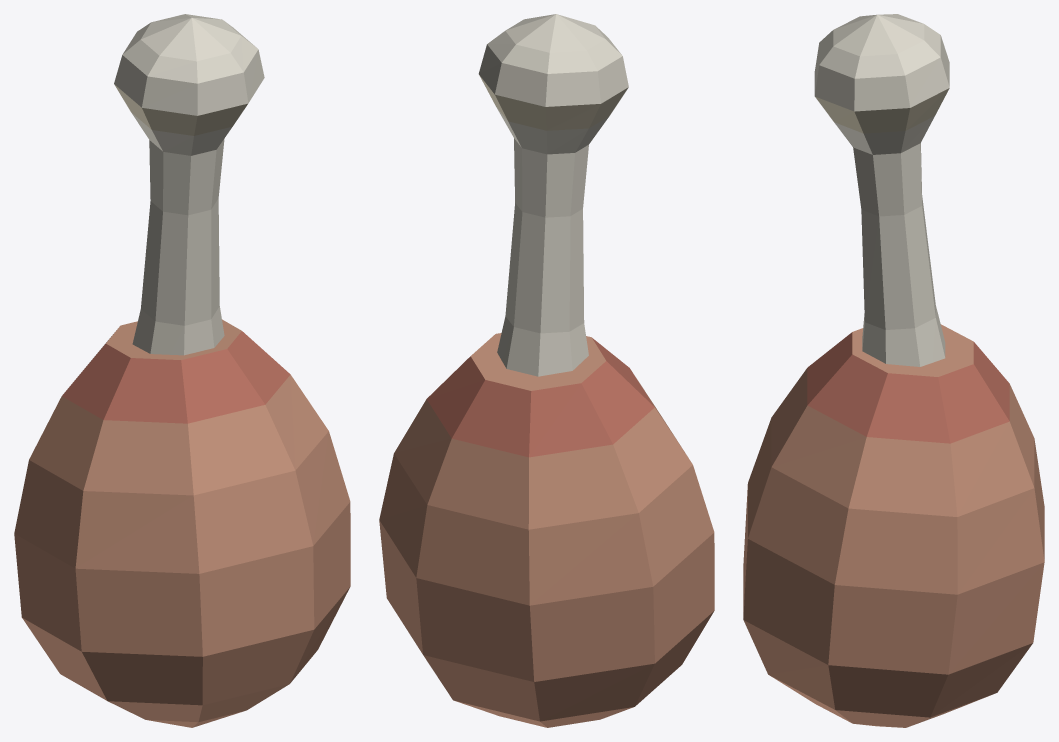
File: poultry.gltf
3 views of the same model, side by side, from view 1: azimuth 30°, elevation 25°; view 2: azimuth 150°, elevation 25°; view 3: azimuth 270°, elevation 25° (orthographic).
Visible parts, largest first — view 1: poultry; view 2: poultry; view 3: poultry.
Part boxes in pixels (x1,y1,x2,y2): poultry: (14, 14, 350, 727); poultry: (379, 14, 714, 727); poultry: (743, 14, 1044, 727).
Size of the model in its own units: 0.1303 by 0.3215 by 0.1233.
